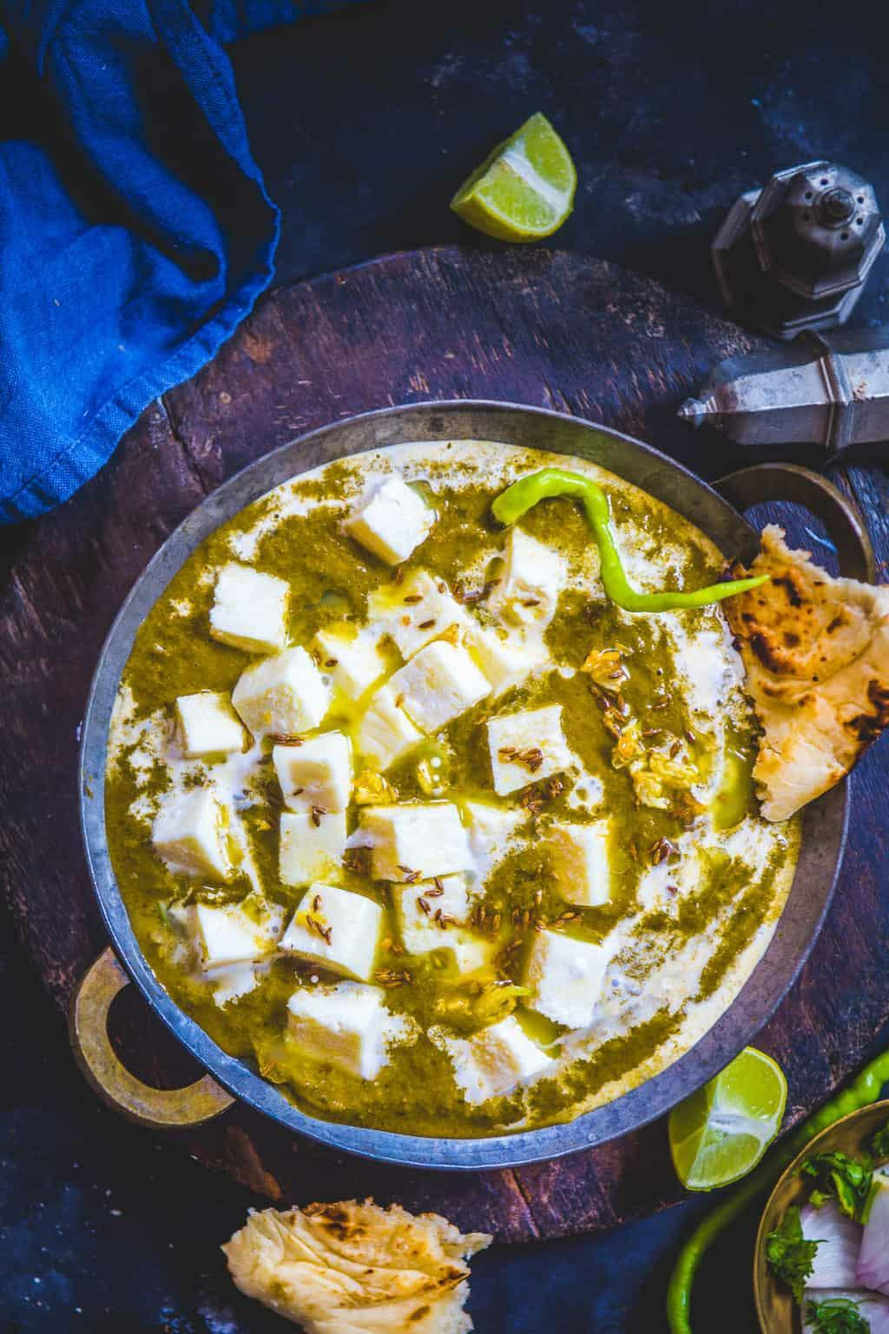PalakPaneer: (111, 438, 811, 1130)
